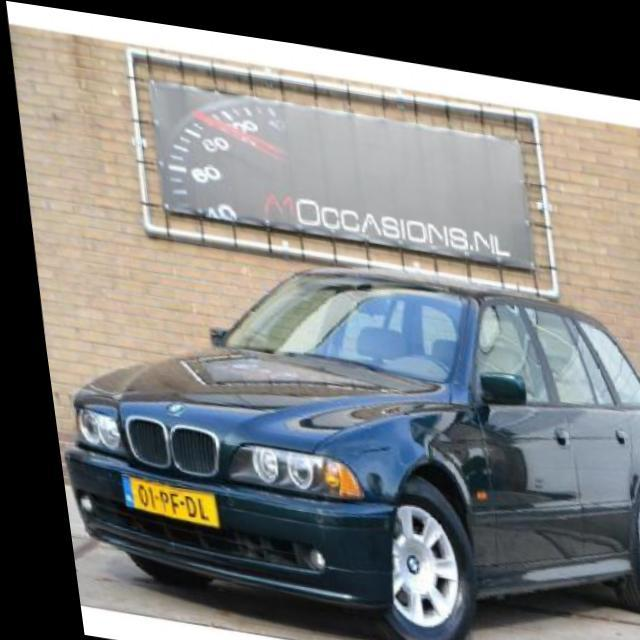license_plate: (106, 470, 207, 524)
